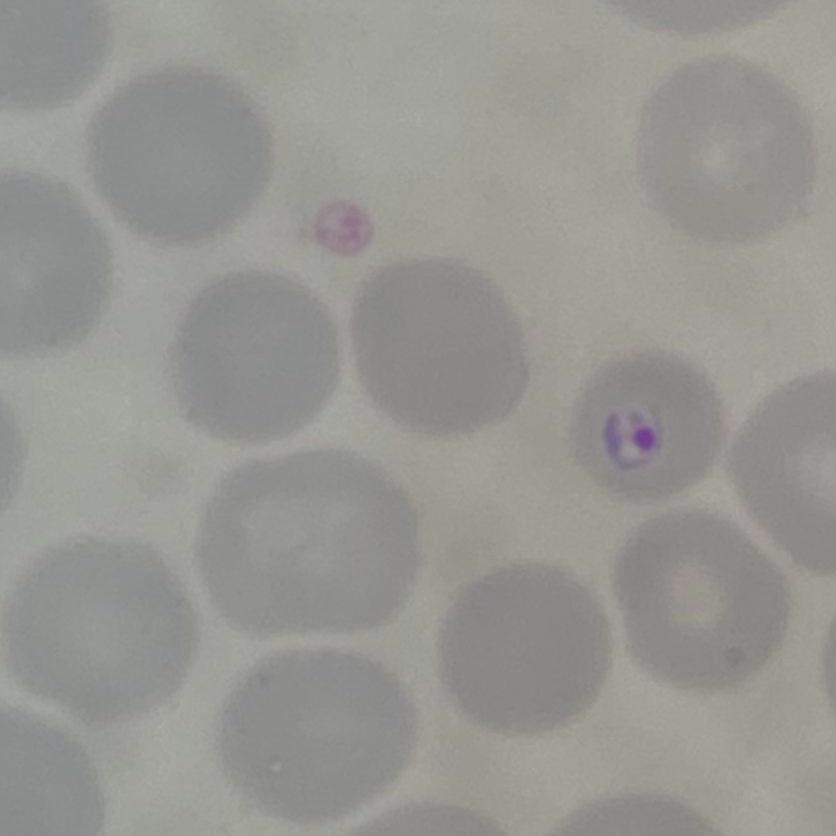Infected: (570, 345, 715, 497)
Uninfected: (205, 454, 422, 638), (0, 532, 198, 718), (217, 649, 419, 822), (638, 49, 820, 235), (90, 65, 274, 237), (357, 252, 530, 432), (612, 510, 786, 684), (438, 565, 610, 736), (177, 269, 344, 440), (728, 362, 836, 582), (0, 170, 114, 360)
